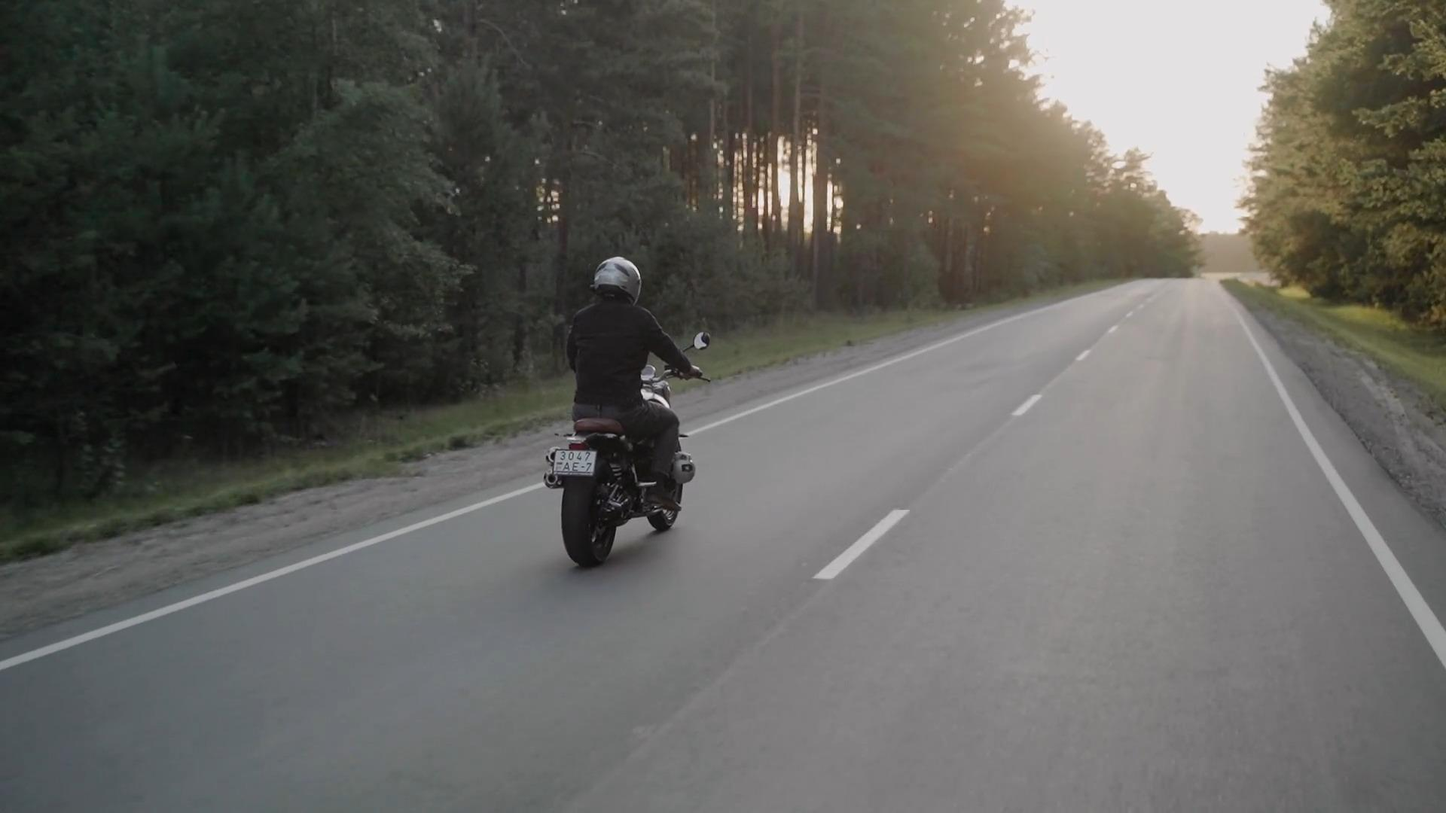driver: (543, 257, 712, 567)
helmet: (590, 256, 642, 306)
